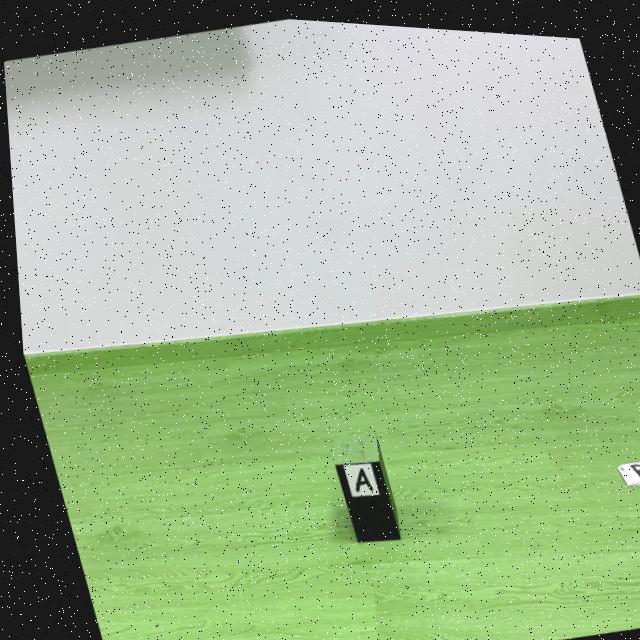A: (348, 463, 367, 487)
B: (624, 454, 640, 470)
